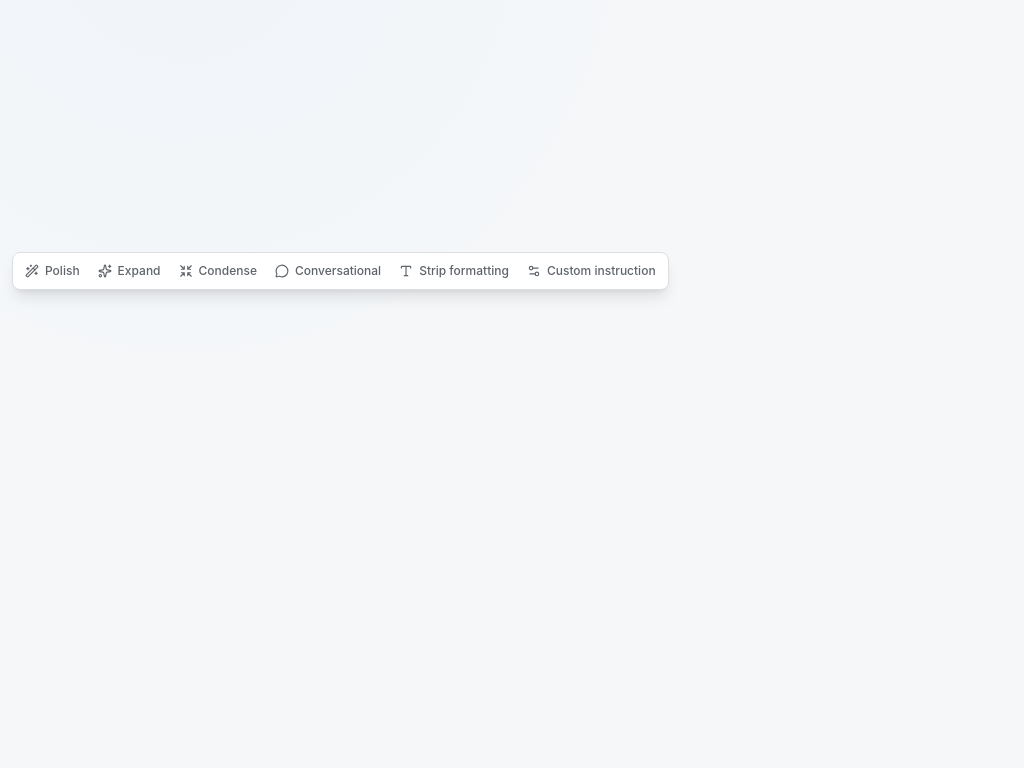
Scenario: 去格式（本地动作） › 未配置模型也能用
The image size is (1024, 768).
Click the button "Strip formatting". click: x=454, y=271
box: [391,257,517,285]
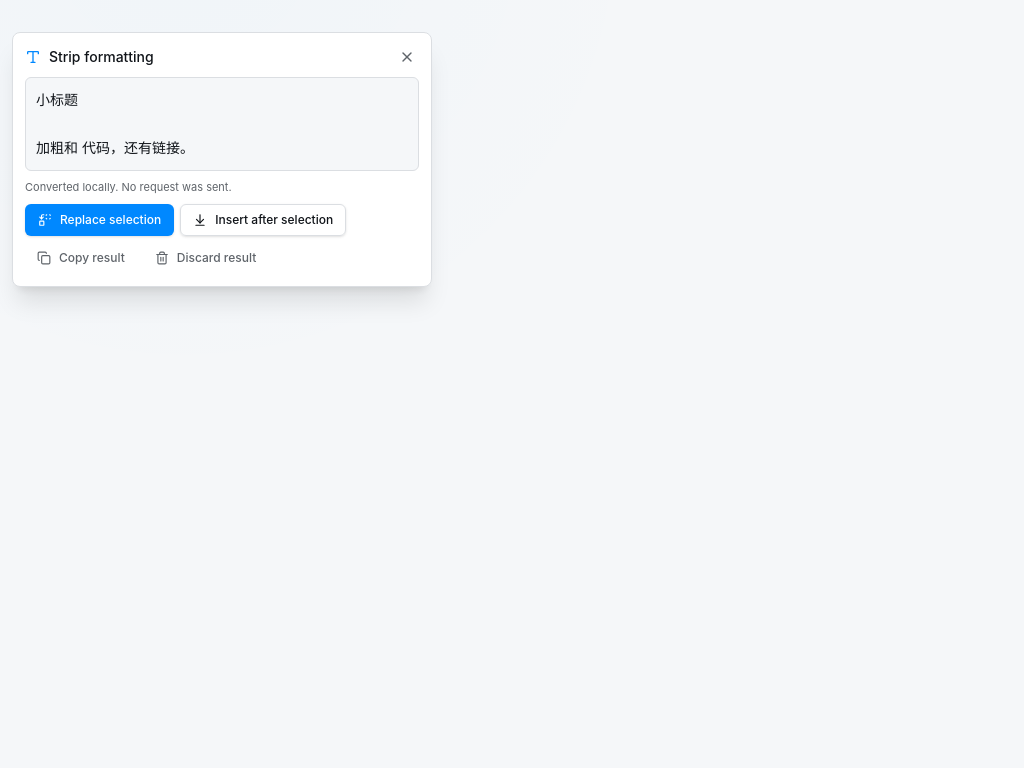
Now the text "小标题 加粗和 代码，还有链接。" is shown, box [25,77,419,171]
